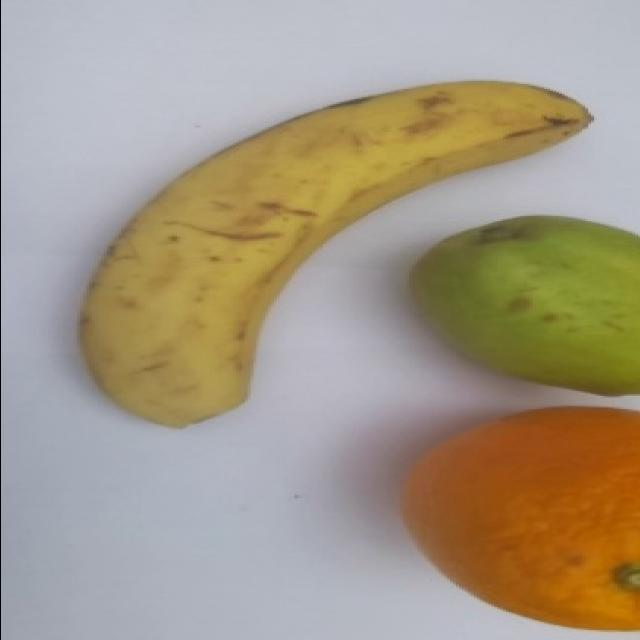Banana: (83, 78, 598, 426)
Orange: (402, 404, 640, 635)
